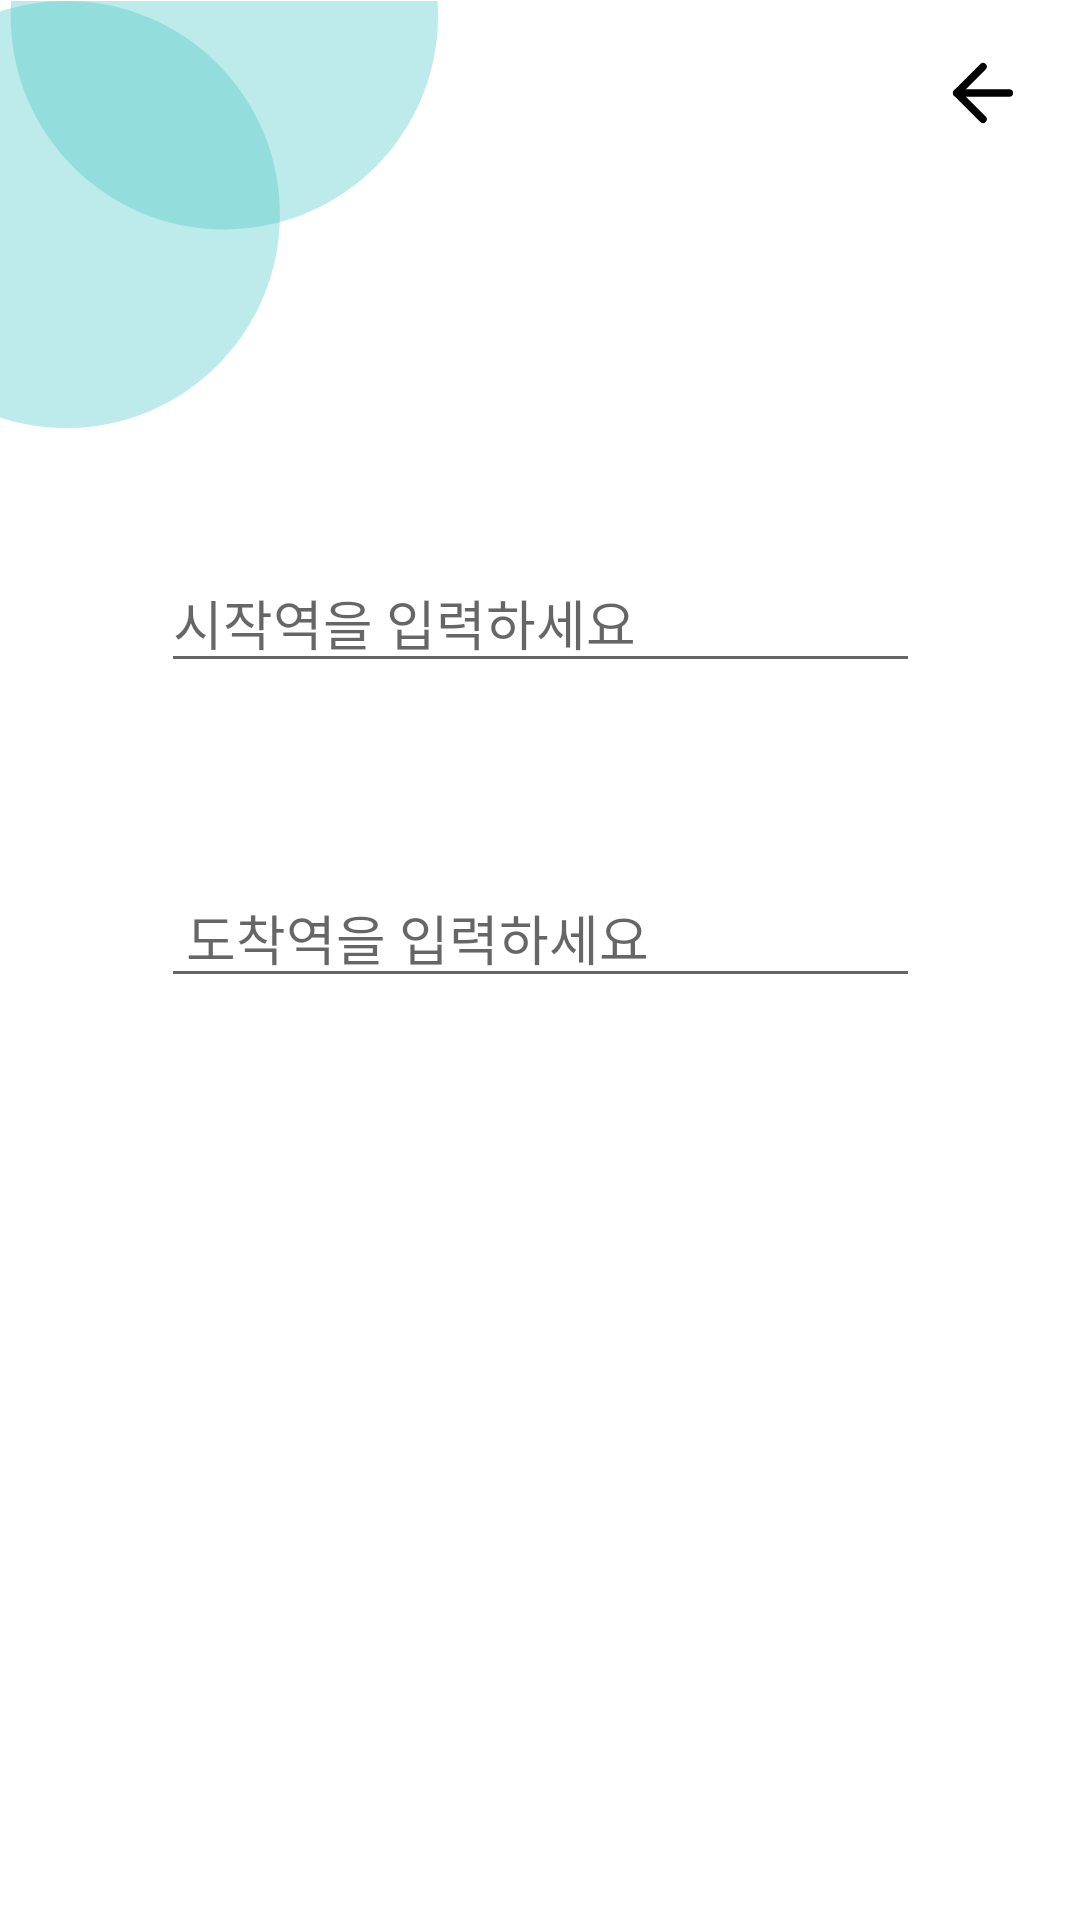

Where icons sit on this 1080px x 1920px app screen, as (x1, y1, x2, y2):
goback: (952, 62, 1013, 124)
